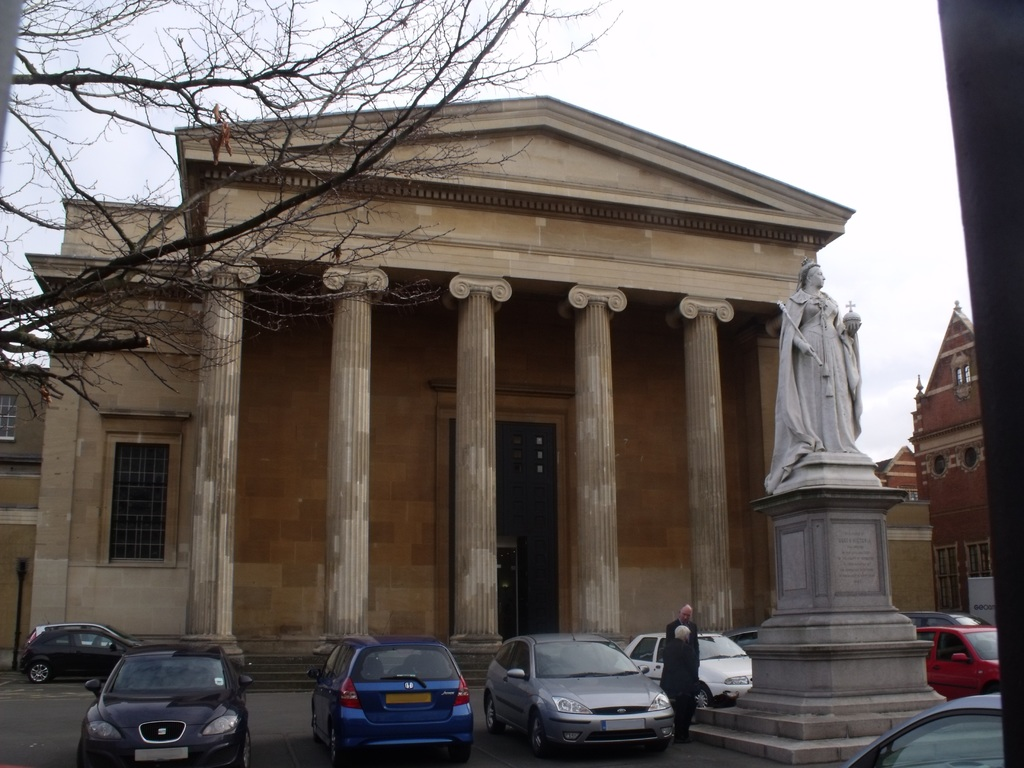car: (482, 632, 677, 758), (80, 637, 256, 768), (306, 634, 475, 764), (75, 644, 255, 766), (840, 691, 1023, 766), (16, 613, 164, 690), (624, 631, 754, 706), (19, 622, 145, 683), (916, 624, 1001, 701), (899, 611, 989, 629)
